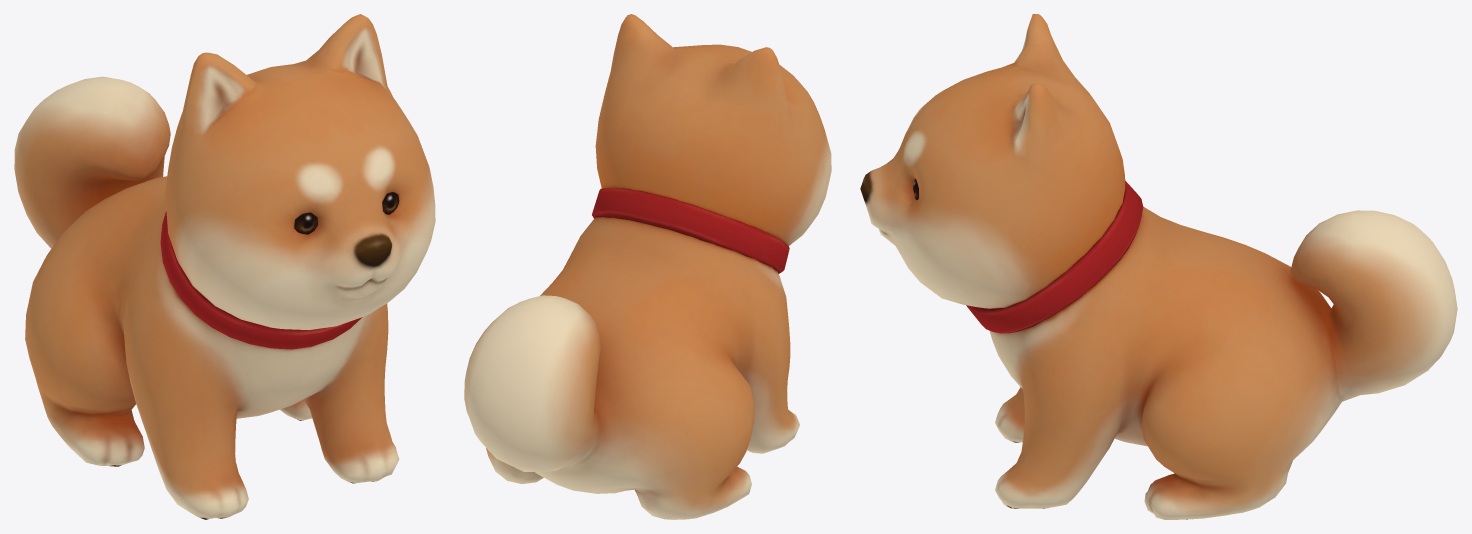
The model's file is shiba.gltf.
3 renders of one model, left to right at view 1: azimuth 30°, elevation 25°; view 2: azimuth 150°, elevation 25°; view 3: azimuth 270°, elevation 25°, orthographic. The views are drawn at different scales.
Visible parts, largest first — view 1: Box002_default_0, Group18985_default_0, Object001_default_0; view 2: Box002_default_0, Group18985_default_0; view 3: Box002_default_0, Group18985_default_0.
Boxes of the visible parts, box(x1,y1,x2,y2) form: Box002_default_0: box(14, 14, 435, 519); Group18985_default_0: box(160, 211, 362, 349); Object001_default_0: box(294, 192, 399, 234); Box002_default_0: box(464, 14, 831, 519); Group18985_default_0: box(592, 188, 789, 273); Box002_default_0: box(860, 14, 1457, 519); Group18985_default_0: box(966, 181, 1143, 333).
Bounding box in the file's own units: 1.4 × 2.1 × 2.7.
Materials: 1 (1 with a texture image).
